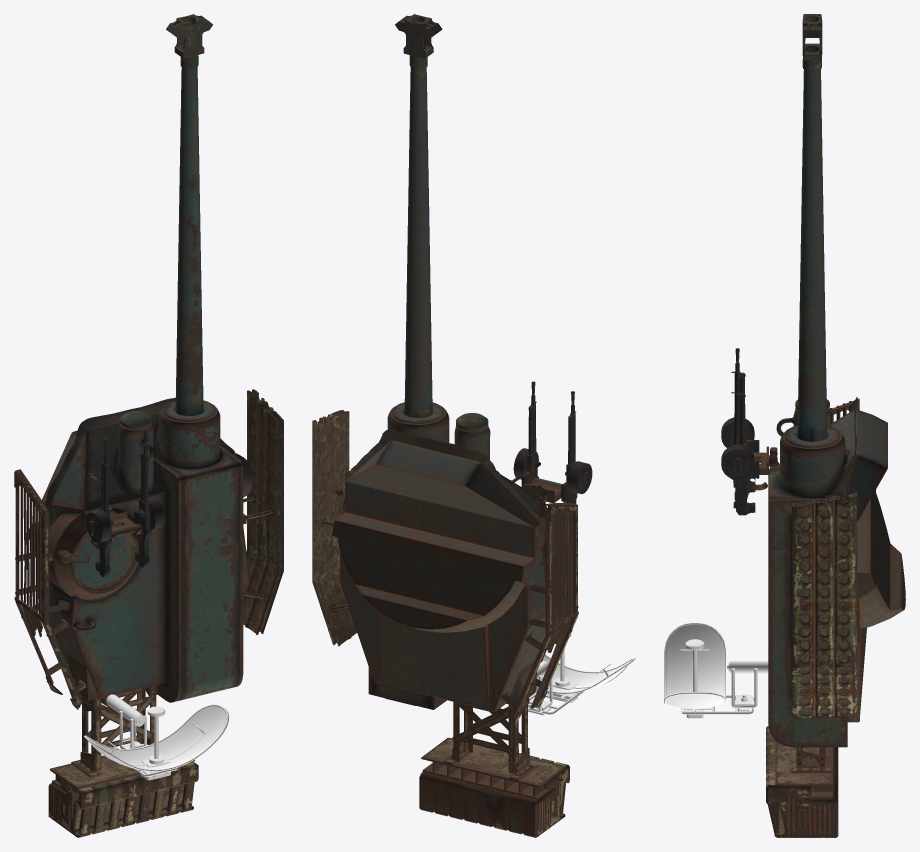
File: Gun_09.glb
3 renders of one model, left to right at view 1: azimuth 30°, elevation 25°; view 2: azimuth 150°, elevation 25°; view 3: azimuth 270°, elevation 25°, orthographic. The views are drawn at different scales.
Parts seen in each view (by area): view 1: set_0_group_0, set_0_group_2, set_0_group_1; view 2: set_0_group_0, set_0_group_2, set_0_group_1; view 3: set_0_group_0, set_0_group_2, set_0_group_1.
Boxes of the visible parts, left/top/right/bottom form: set_0_group_0: left=14, top=14, right=279, bottom=837; set_0_group_2: left=243, top=389, right=283, bottom=634; set_0_group_1: left=84, top=694, right=229, bottom=780; set_0_group_0: left=316, top=14, right=592, bottom=837; set_0_group_2: left=312, top=410, right=357, bottom=646; set_0_group_1: left=528, top=633, right=635, bottom=715; set_0_group_0: left=721, top=14, right=905, bottom=837; set_0_group_2: left=792, top=492, right=857, bottom=717; set_0_group_1: left=664, top=623, right=768, bottom=718.
Bounding box in the file's own units: 2.06 × 6.25 × 1.66.
3 materials, 2 textured.
